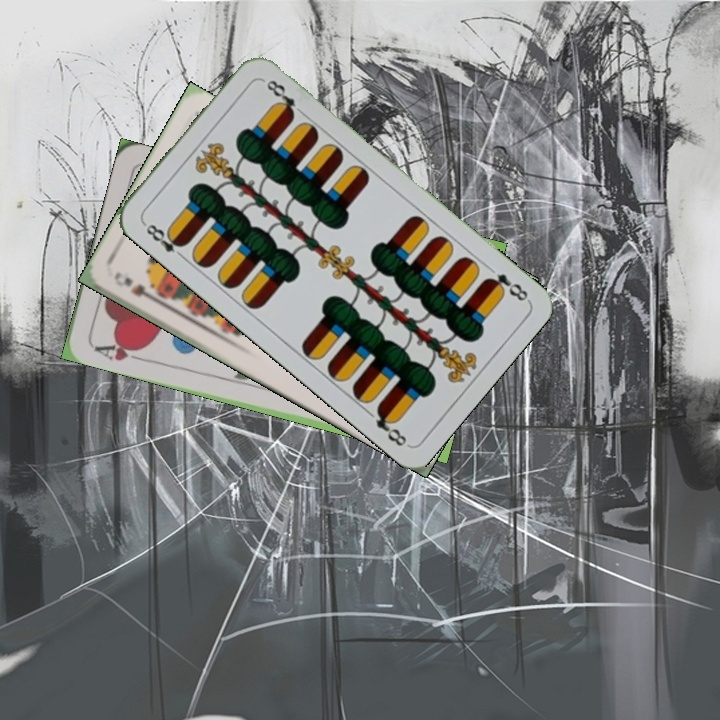E8: (139, 218, 189, 262), (481, 269, 531, 304)
HA: (90, 336, 148, 364)
S9: (110, 267, 165, 306)
